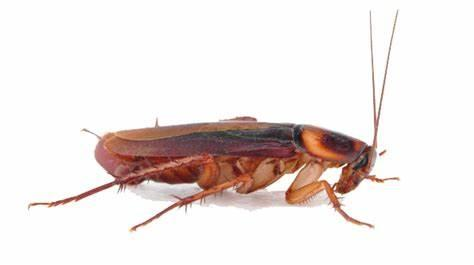cockroach: (87, 112, 389, 208)
